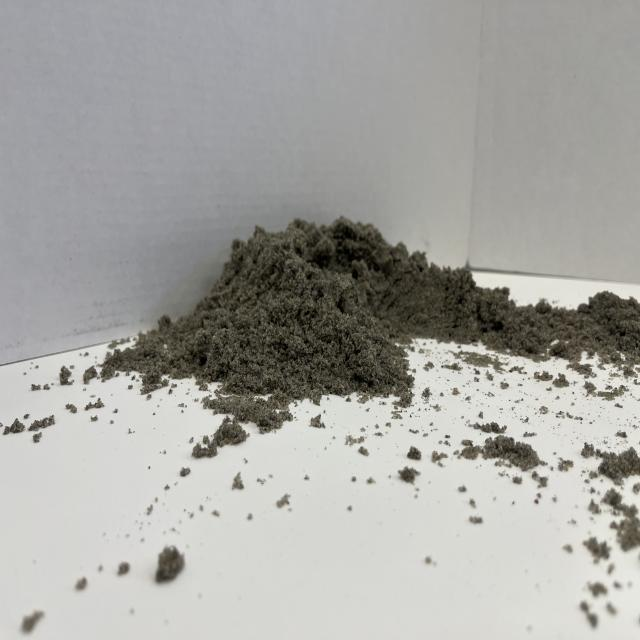sand: (150, 192, 481, 397)
